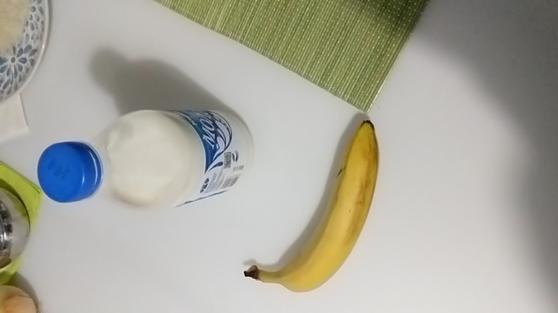banana: (241, 99, 382, 304)
milk: (34, 100, 262, 222)
